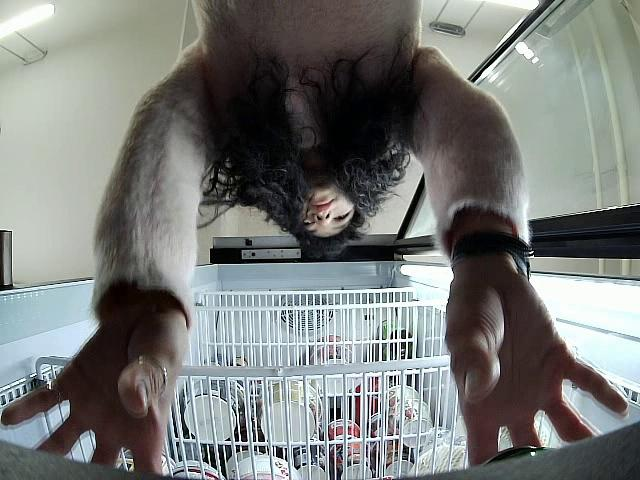00_hand: (445, 275, 630, 467), (0, 308, 188, 480)
